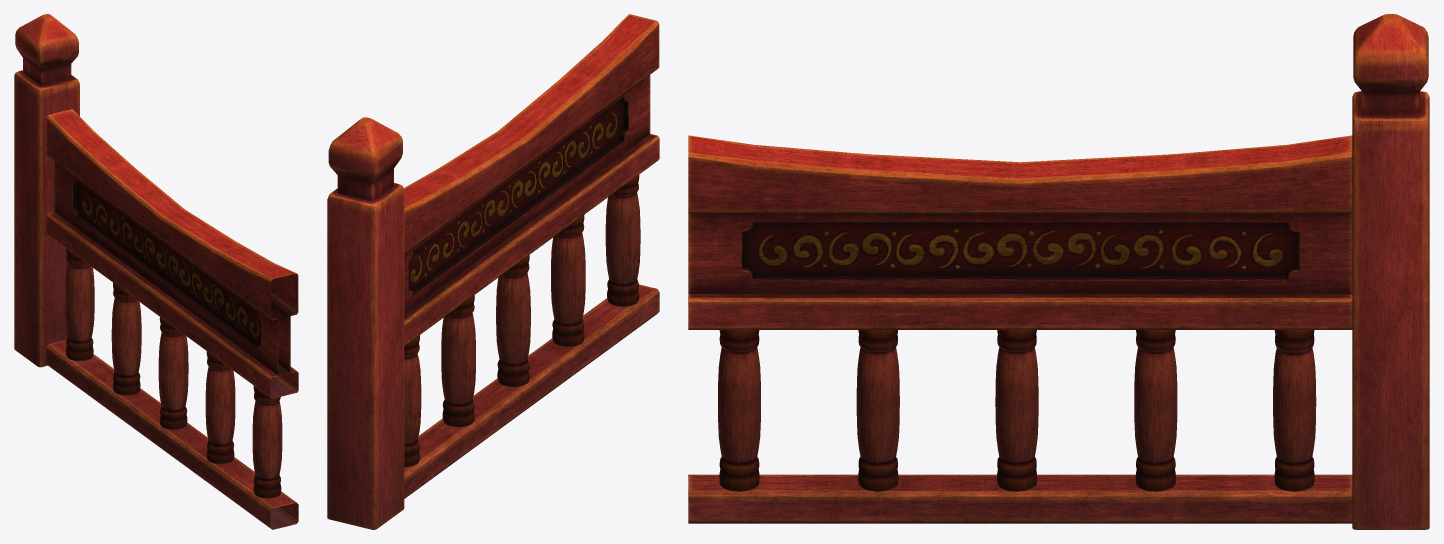
The model's file is SM_WoodFence.glb.
3 renders of one model, left to right at view 1: azimuth 30°, elevation 25°; view 2: azimuth 150°, elevation 25°; view 3: azimuth 270°, elevation 25°, orthographic. The views are drawn at different scales.
Visible parts, largest first — view 1: SM_WoodFence_LOD0; view 2: SM_WoodFence_LOD0; view 3: SM_WoodFence_LOD0.
Part boxes in pixels (x1,y1,x2,y2): SM_WoodFence_LOD0: [14, 14, 298, 529]; SM_WoodFence_LOD0: [327, 14, 659, 529]; SM_WoodFence_LOD0: [688, 14, 1429, 529].
Bounding box in the file's own units: 0.1578 × 1.21 × 1.64.
1 material, 1 textured.
